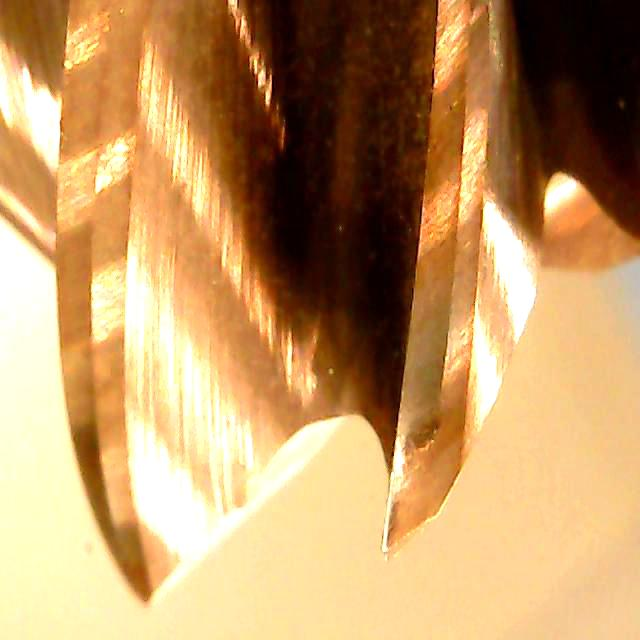Tool-wear-class-0: (362, 252, 494, 559)
